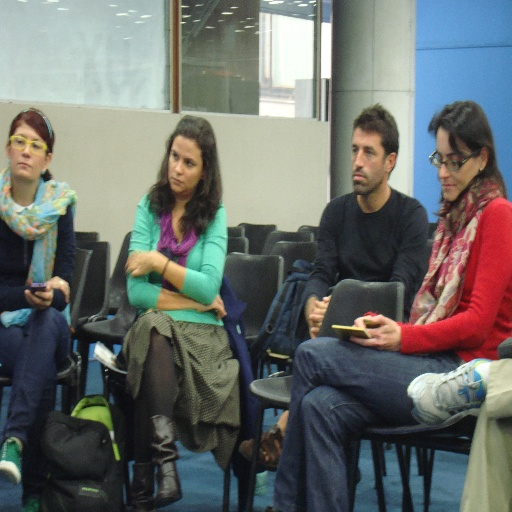hand: (354, 315, 411, 359), (306, 294, 331, 336), (23, 280, 54, 309), (123, 248, 155, 276), (197, 293, 227, 321), (44, 275, 70, 306), (311, 308, 327, 331), (351, 314, 365, 330)
